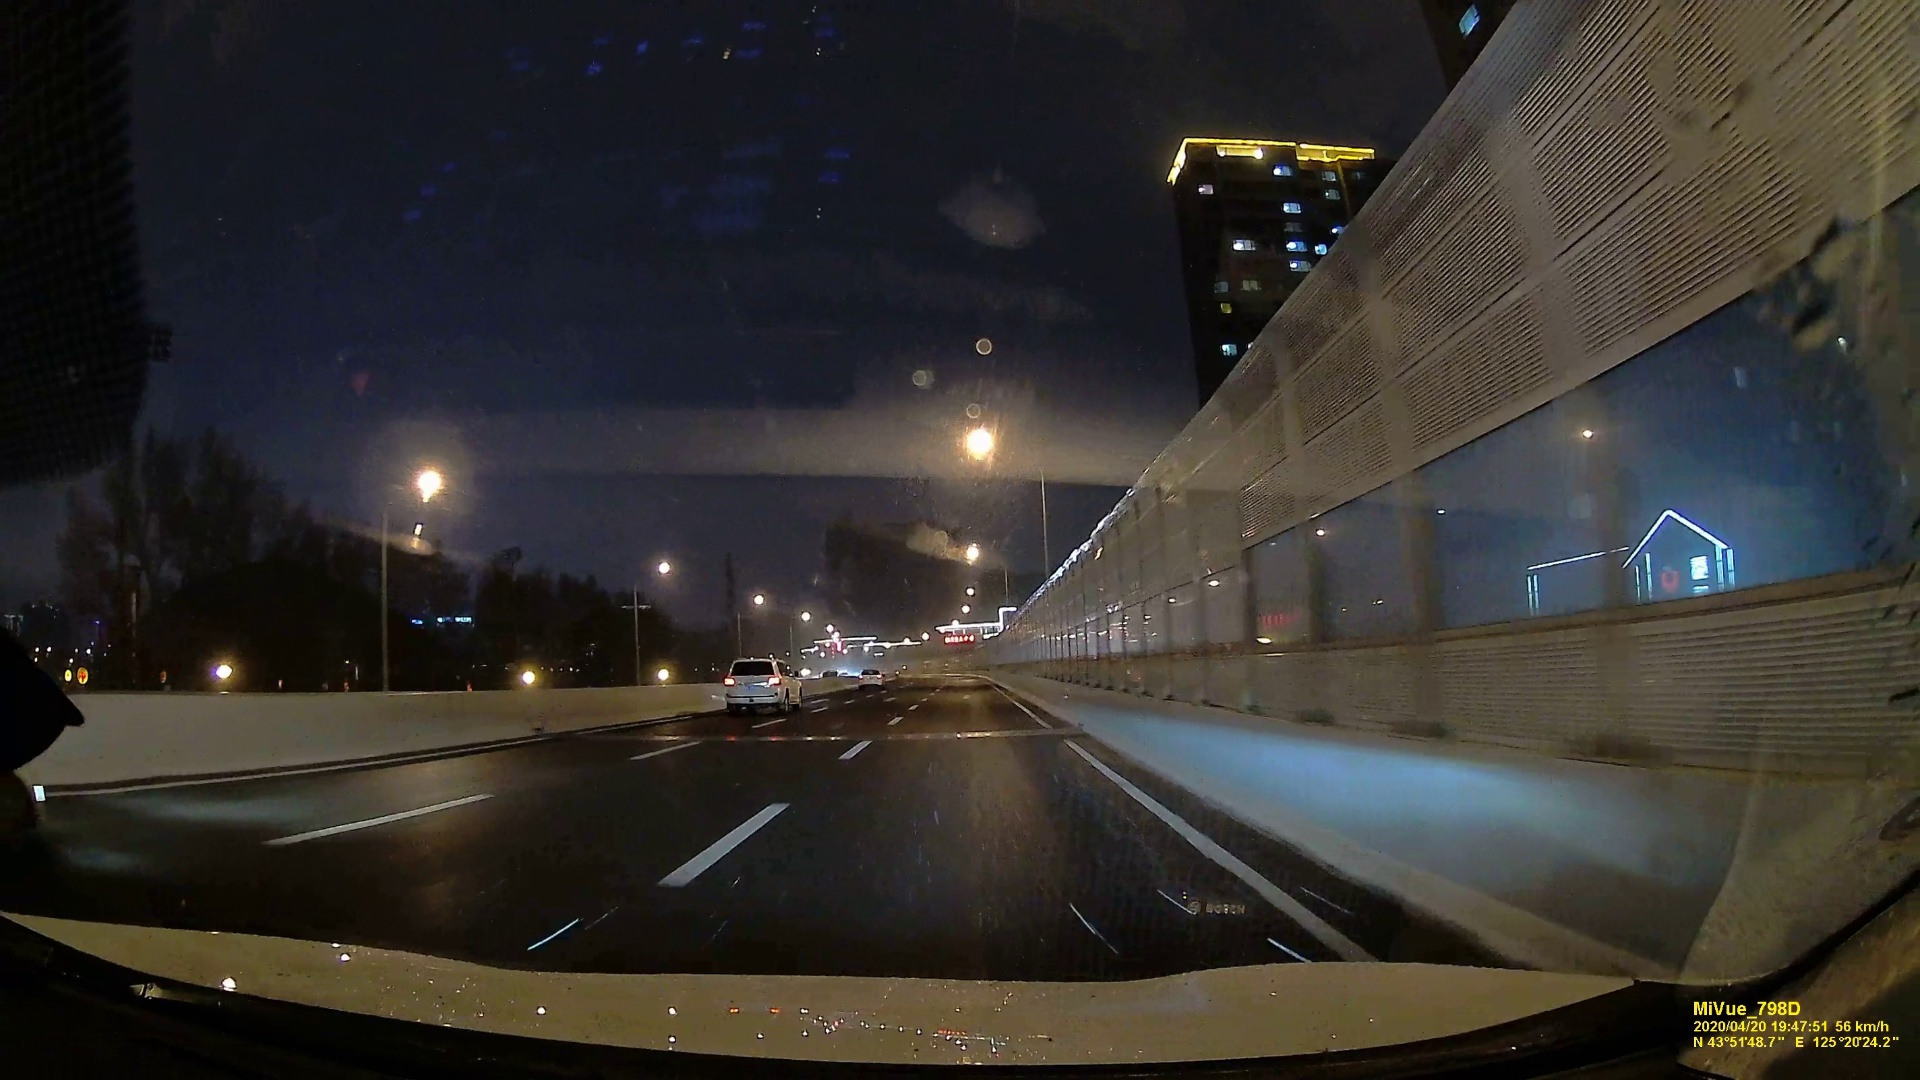vehicle: (723, 655, 803, 712), (857, 669, 886, 688)
